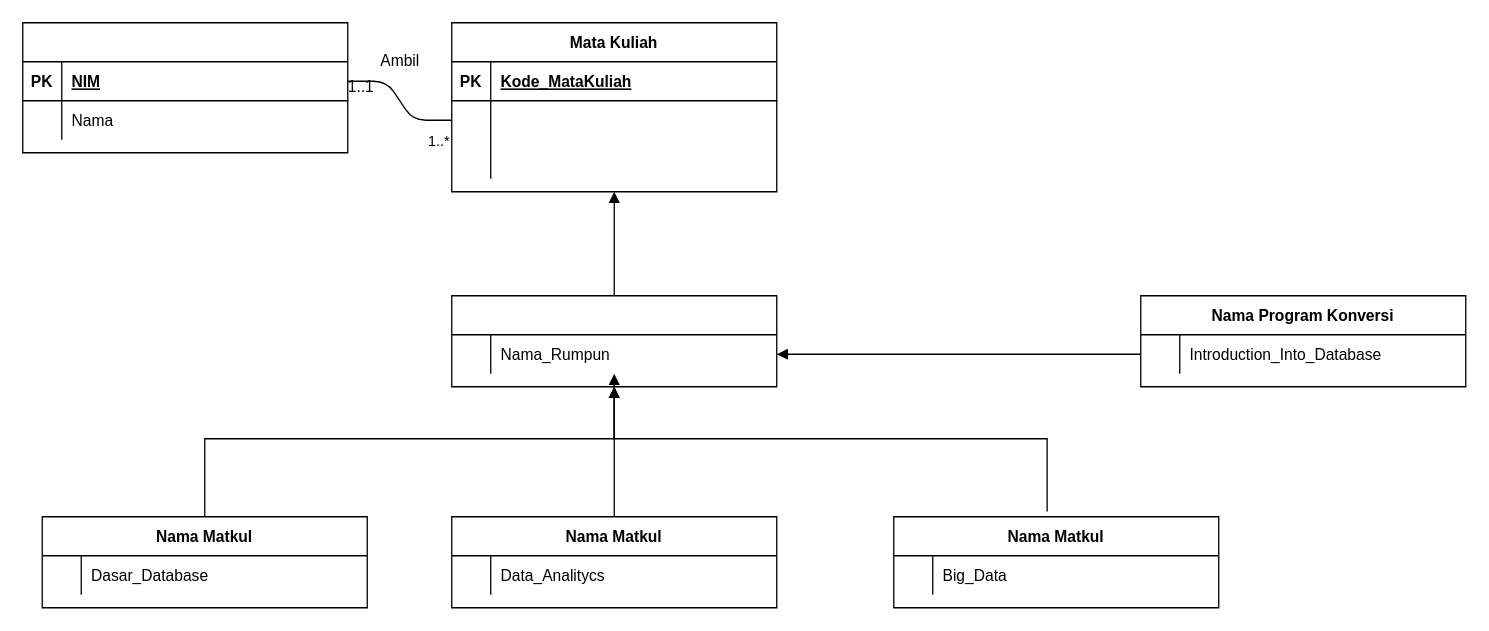
The diagram is 1489 pixels wide and 631 high, and some of its shapes have lost their labels. Each missing label, with the box of its shape:
Mahasiswa: (21, 21, 348, 153)
Rumpun Bidang: (450, 294, 777, 387)
